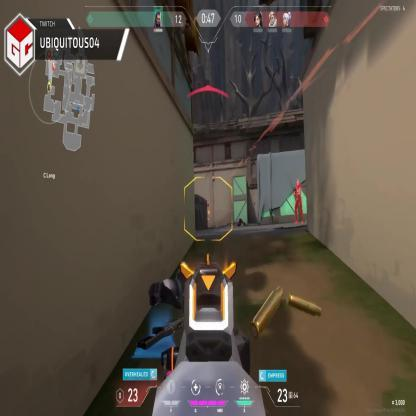enemy: (293, 178, 303, 225), (204, 210, 209, 228)
enemy_head: (296, 179, 299, 187)
